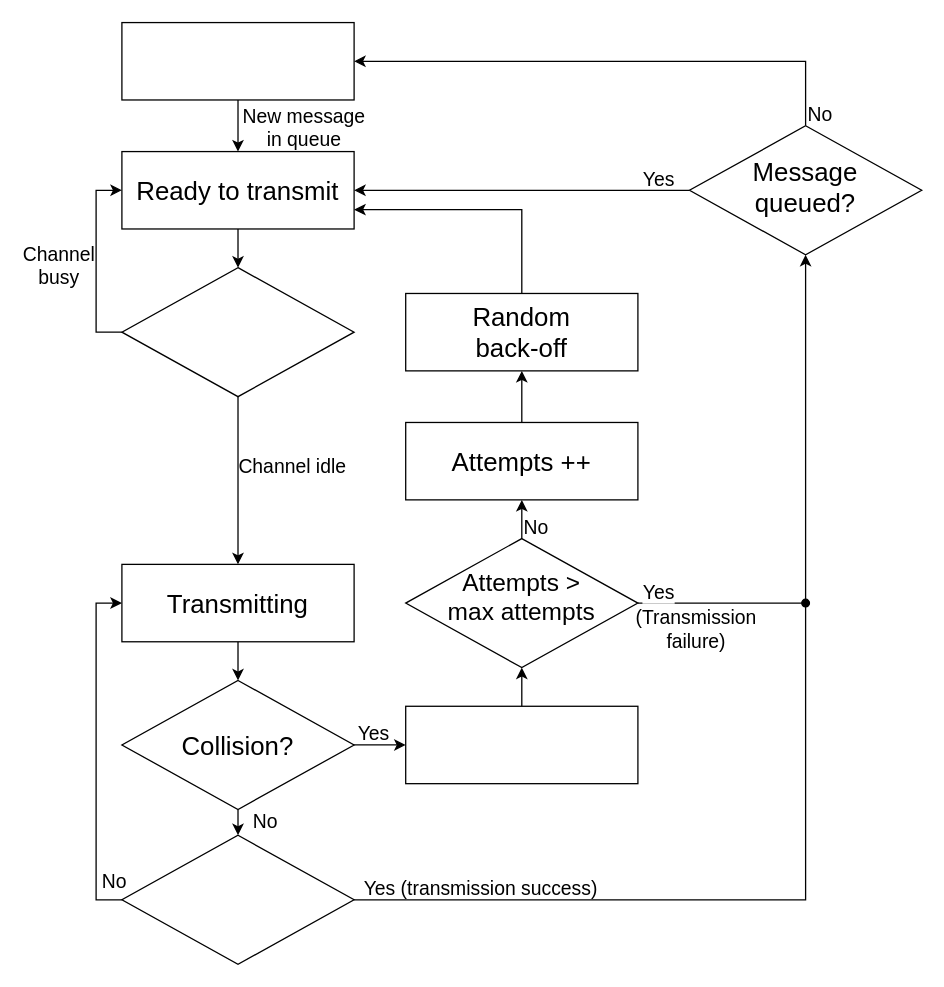
Image size: 944x987. Some labels were removed from this diagram. Each missing label, with the centre of its shape:
"Carrier sense" goes at [237,331].
"Done transmitting?" goes at [237,899].
"Idle" goes at [237,60].
"Transmitting jamming signal" goes at [521,744].
